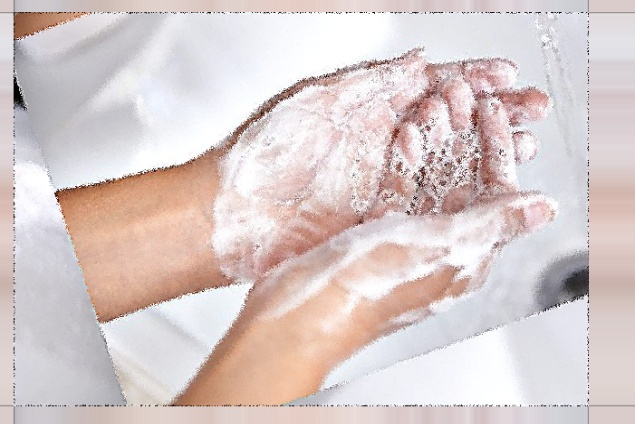washing hand: (109, 0, 634, 393)
